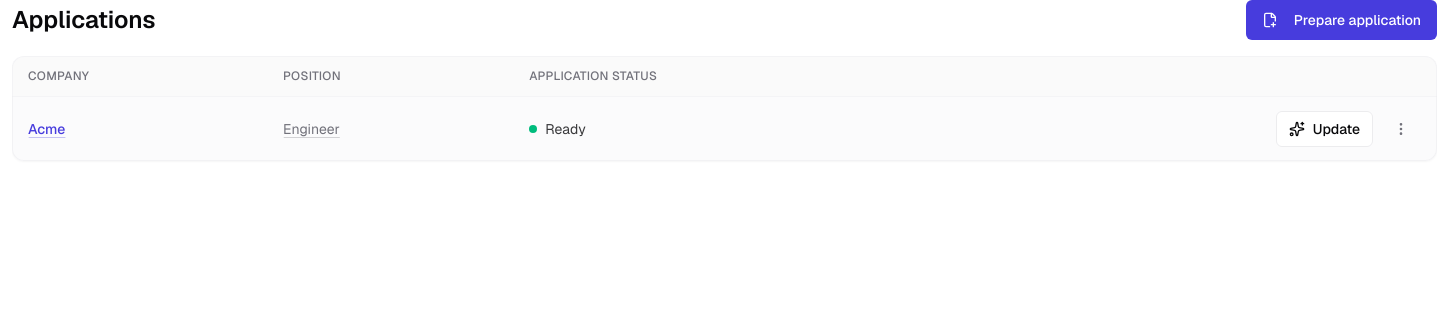
Test: ApplicationList › opens a 3-dots menu with Export CV as PDF, Export cover letter as PDF, Preview CV, and Delete
This screenshot has width=1452, height=312.
Step 1. Click the button named "Open Engineer application" → [1401, 128], box [1381, 108, 1421, 148]
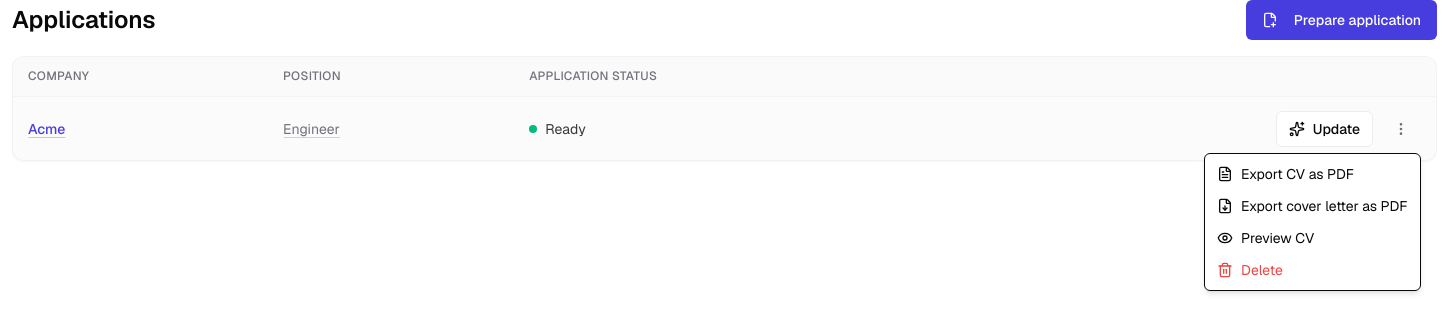
Now the menu item "Export CV as PDF" is shown, box [1217, 165, 1354, 183]
Now the menu item "Export cover letter as PDF" is shown, box [1217, 197, 1408, 215]
Now the menu item "Preview CV" is shown, box [1217, 229, 1314, 247]
